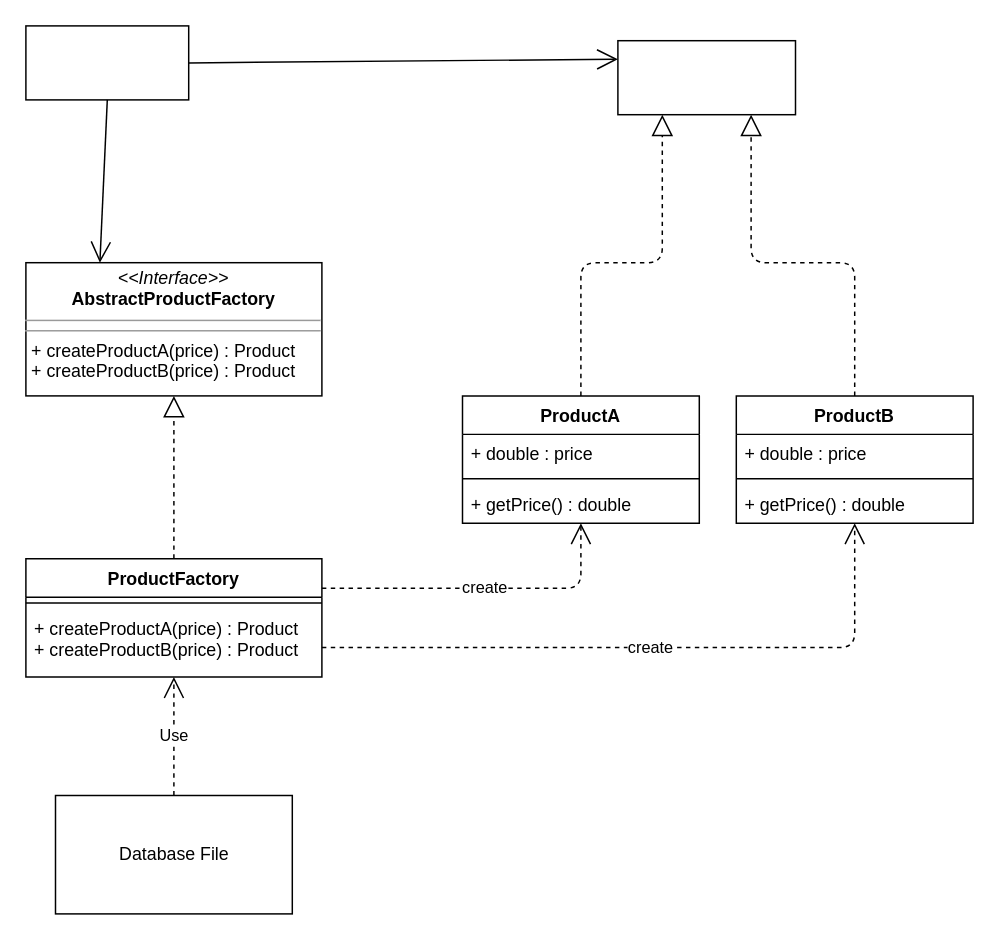
Some shapes in this 999 by 940 pixel diagram are drawn without their labels. The shapes that lost their labels are listed below. From the top down, each one's centre as x and y in pixels, then its label:
the point at 106,62: Client
the point at 706,77: «interface» Product
